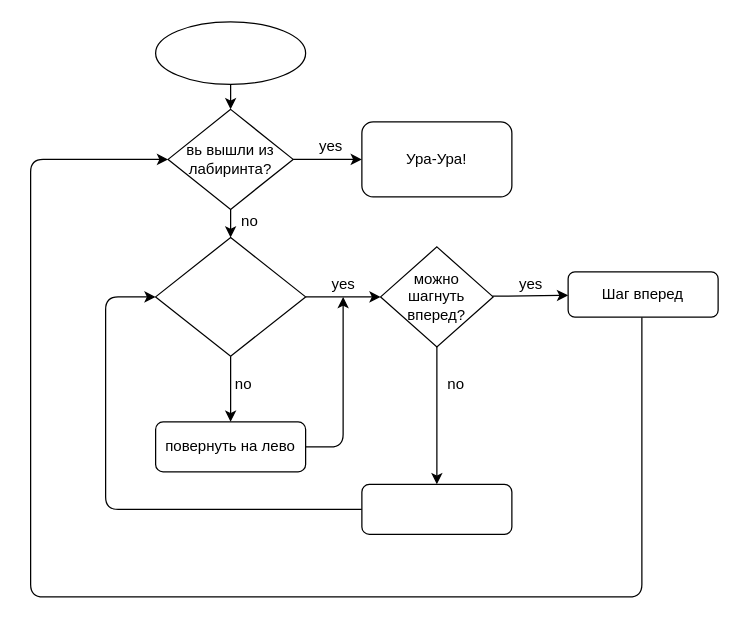
This 740x629 diagram has some shape labels left out. Here are the shapes that lost their labels. From the top down, the box of each, then its label:
(154, 21, 306, 84): start
(154, 236, 306, 356): левая рука касается лабиринта?
(361, 483, 512, 534): повернись на право
